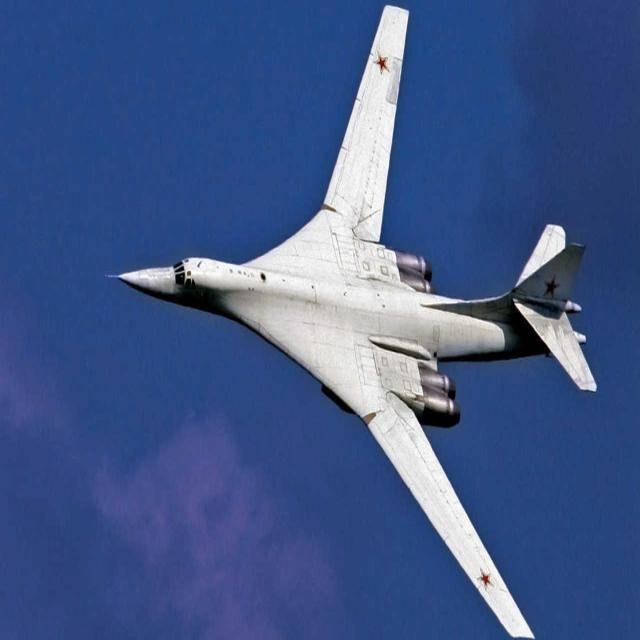Tu160: (82, 2, 605, 640)
